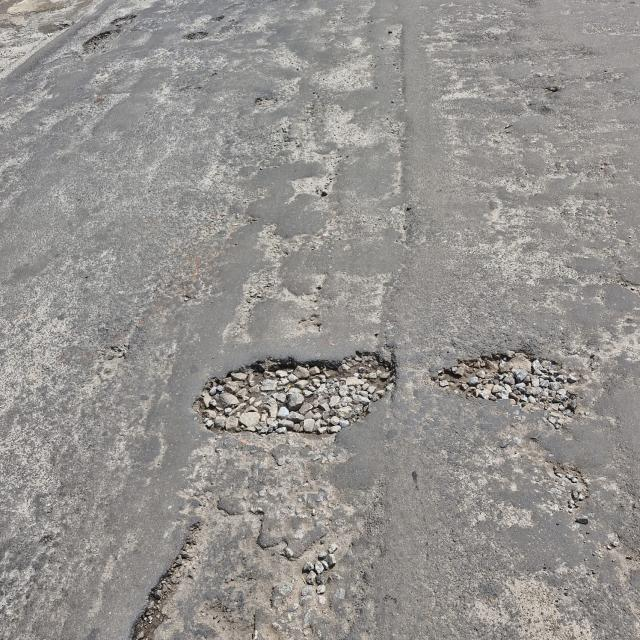pothole: (225, 456, 376, 640), (187, 342, 405, 447), (425, 340, 592, 424), (120, 518, 217, 640), (499, 435, 616, 529), (75, 6, 140, 59)
